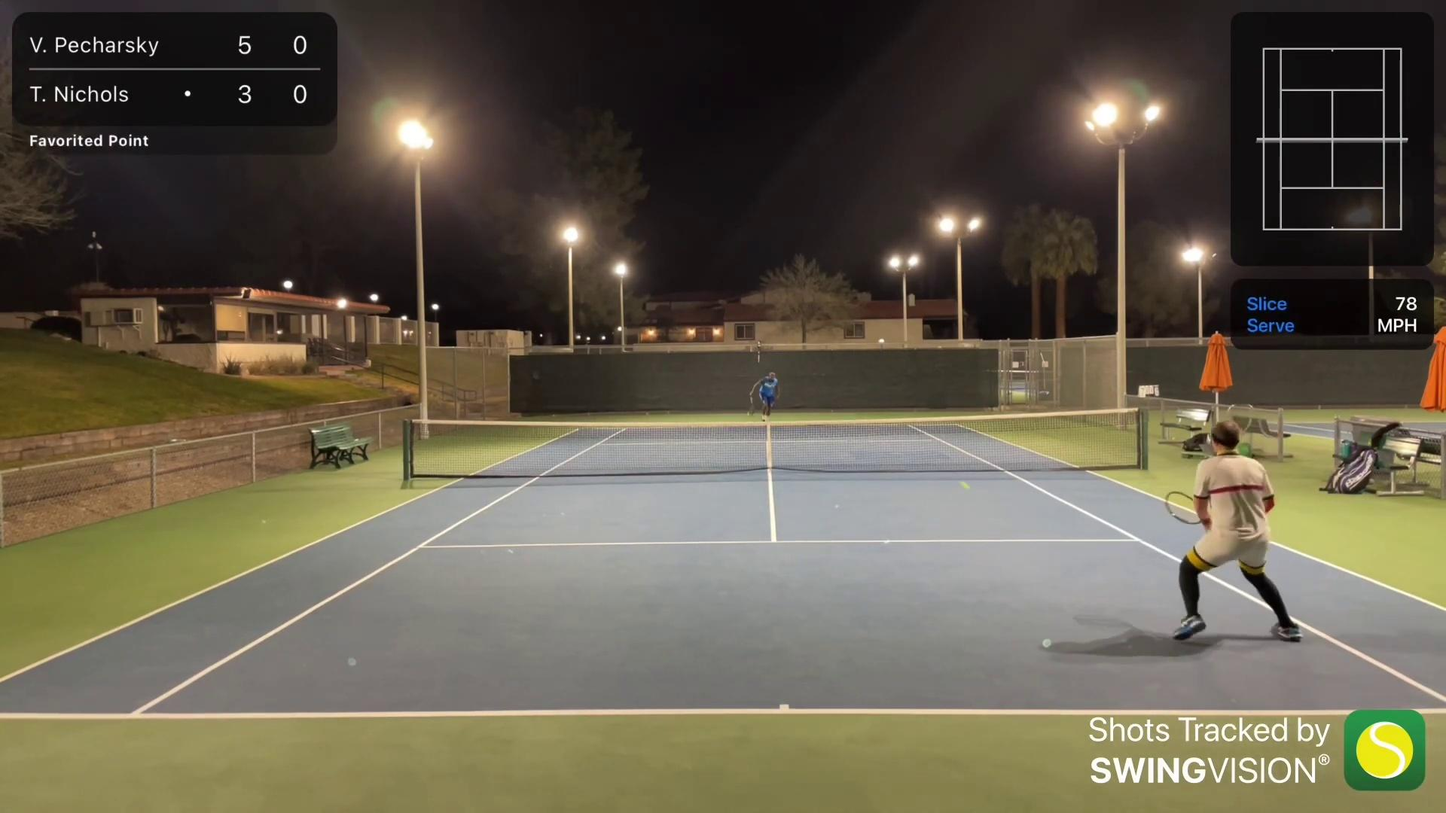ball: (961, 480, 975, 494)
